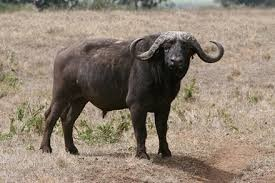buffalo: (38, 29, 225, 159)
